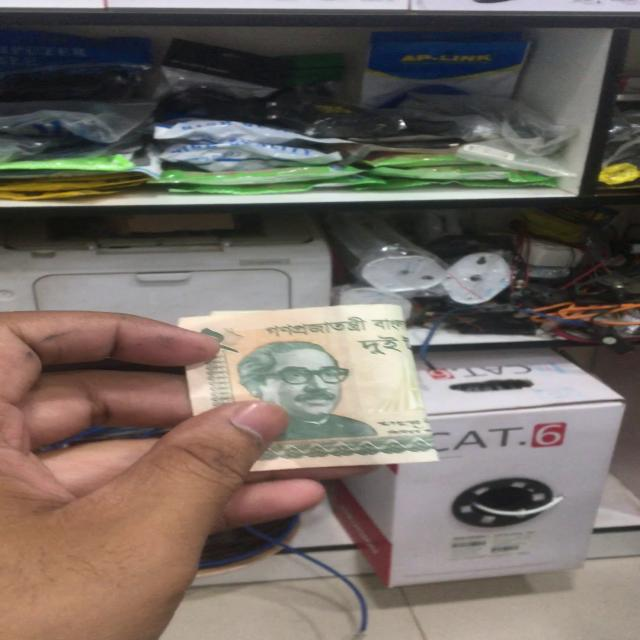Taka: (182, 309, 428, 467)
